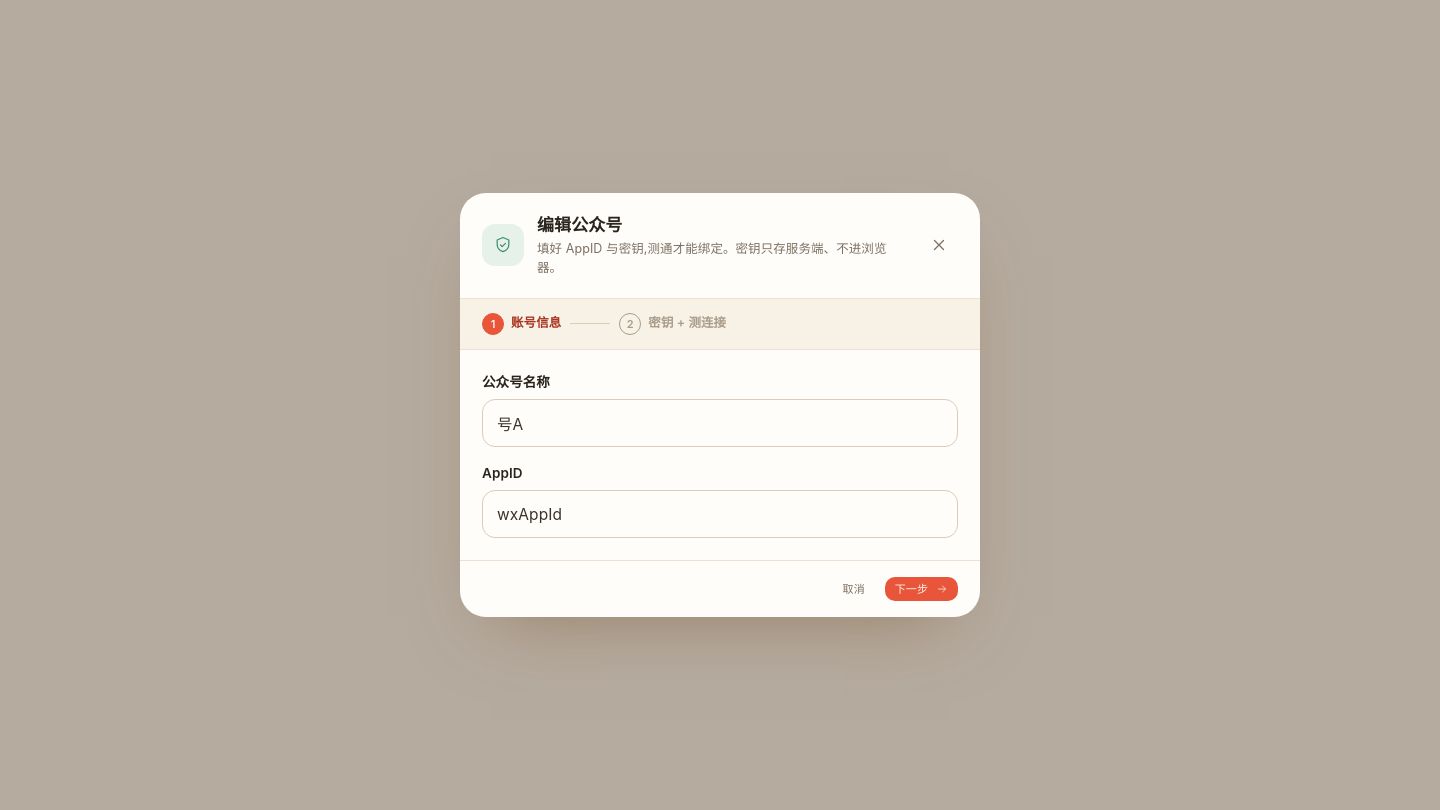
Test: WeChatBindWizard › 编辑态:回填 name/appid;configured 含 appid 时 AppSecret 可留空提示
Expected: the field named "名称" holds "号A", [497, 400, 943, 446]
Expected: the field named "AppID" holds "wxAppId", [497, 491, 943, 537]
Click the button "下一步" at (921, 589), box [885, 577, 958, 601]
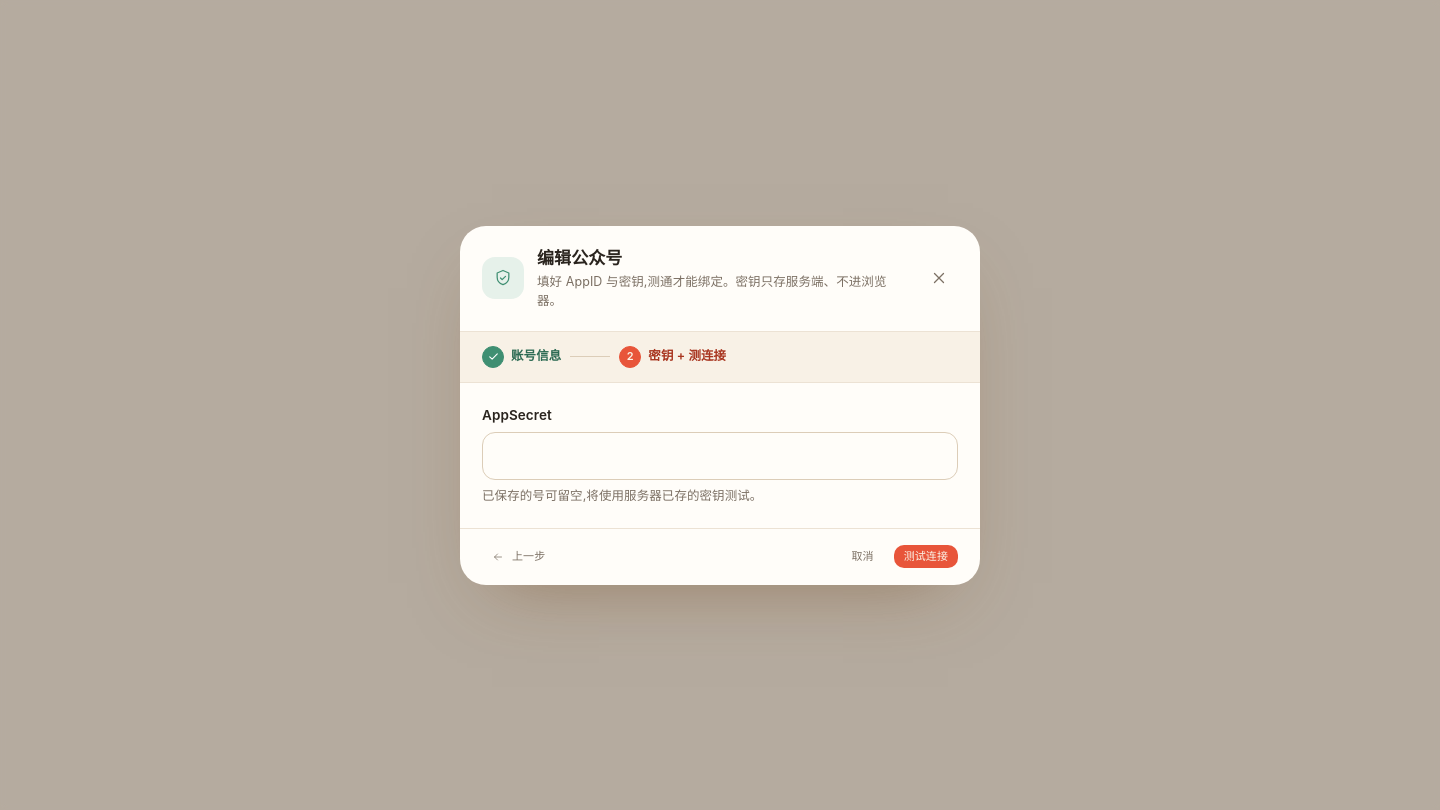
Expected: the text "已保存的号可留空,将使用服务器已存的密钥测试。" is shown, [482, 488, 762, 503]
